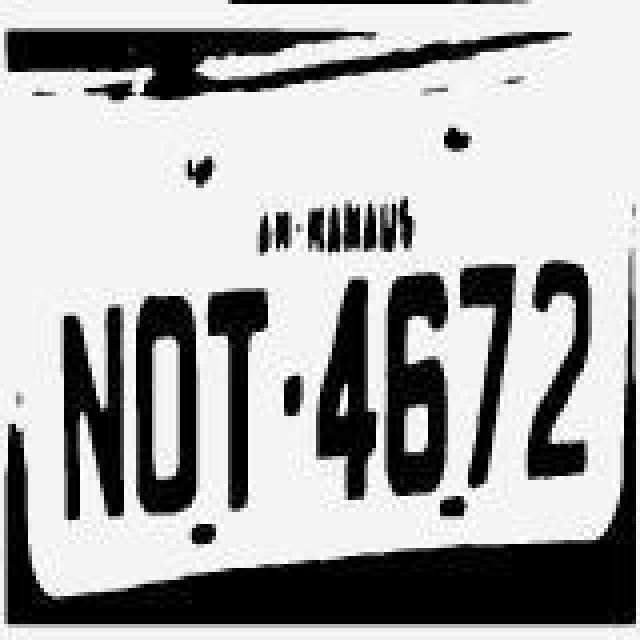2: (524, 246, 604, 506)
4: (310, 268, 386, 516)
6: (378, 266, 454, 502)
7: (452, 250, 524, 494)
N: (46, 292, 130, 532)
O: (130, 284, 206, 524)
T: (206, 270, 274, 514)
